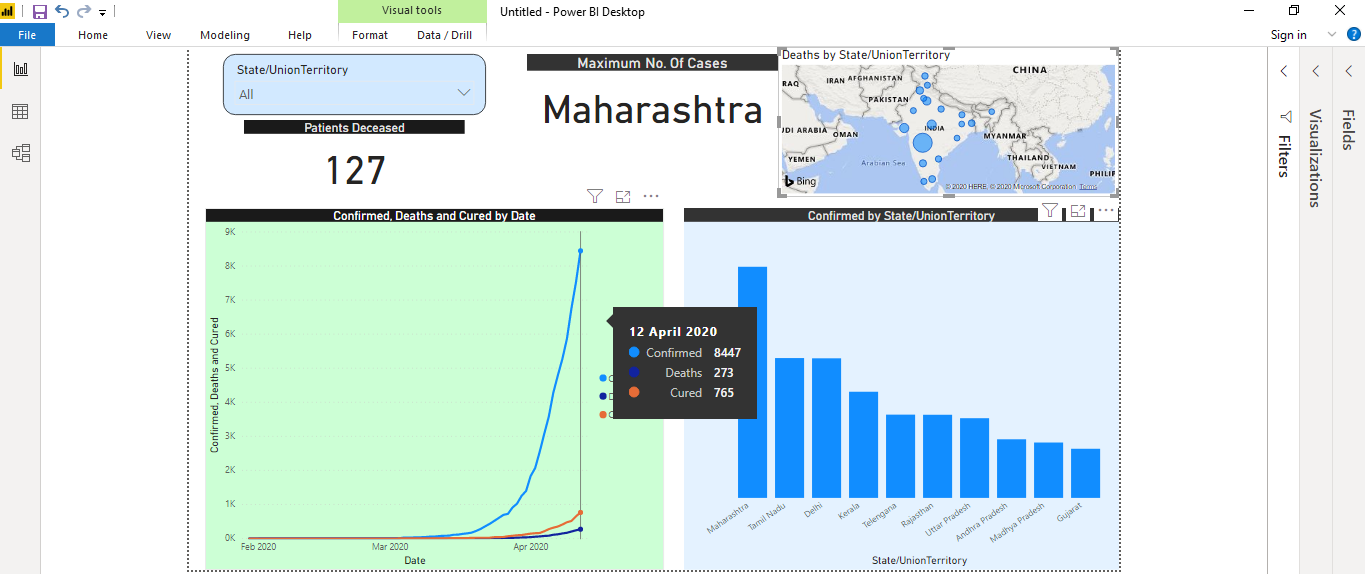

The page's visual inventory and layout, read from the dashboard file:
{"tool":"powerbi","page":{"name":"Page 1","canvas":[1280,720],"ordinal":0},"visuals":[{"type":"lineChart","fields":{"Category":["covid_19_india_lookup.Date"],"Y":["Sum(covid_19_india_lookup.Confirmed)","Sum(covid_19_india_lookup.Deaths)","Sum(covid_19_india_lookup.Cured)"]},"box":[22,221.6,631.9,498.4],"z":0},{"type":"card","title":"Maximum No. Of Cases","fields":{"Values":["Min(covid_19_india_lookup.State/UnionTerritory)"]},"box":[465.3,9.6,345.5,115.6],"z":1},{"type":"columnChart","fields":{"Category":["covid_19_india_lookup.State/UnionTerritory"],"Y":["Sum(covid_19_india_lookup.Confirmed)"]},"box":[681.5,221.6,598.9,498.4],"z":3},{"type":"slicer","fields":{"Values":["covid_19_india_lookup.State/UnionTerritory"]},"box":[46.8,9.6,362.1,84],"z":4},{"type":"map","fields":{"Category":["covid_19_india_lookup.State/UnionTerritory"],"Size":["Sum(covid_19_india_lookup.Deaths)"]},"box":[810.9,0,469.4,206.5],"z":5},{"type":"card","title":"Patients Deceased","fields":{"Values":["covid_19_india_lookup.Total Death"]},"box":[75.6,100.8,304,105.8],"z":6}]}

Visuals, with their boxes on the page's 1280x720 design canvas (x1, y1, x2, y2). These are canvas units, not pixel positions in the 1365x574 screenshot, which may show the page scaled, cropped or inside an application window:
lineChart - covid_19_india_lookup.Date x Sum(covid_19_india_lookup.Confirmed): (22, 222, 654, 720)
"Maximum No. Of Cases" card: (465, 10, 811, 125)
columnChart - covid_19_india_lookup.State/UnionTerritory x Sum(covid_19_india_lookup.Confirmed): (682, 222, 1280, 720)
slicer - covid_19_india_lookup.State/UnionTerritory: (47, 10, 409, 94)
map - covid_19_india_lookup.State/UnionTerritory x Sum(covid_19_india_lookup.Deaths): (811, 0, 1280, 206)
"Patients Deceased" card: (76, 101, 380, 207)
